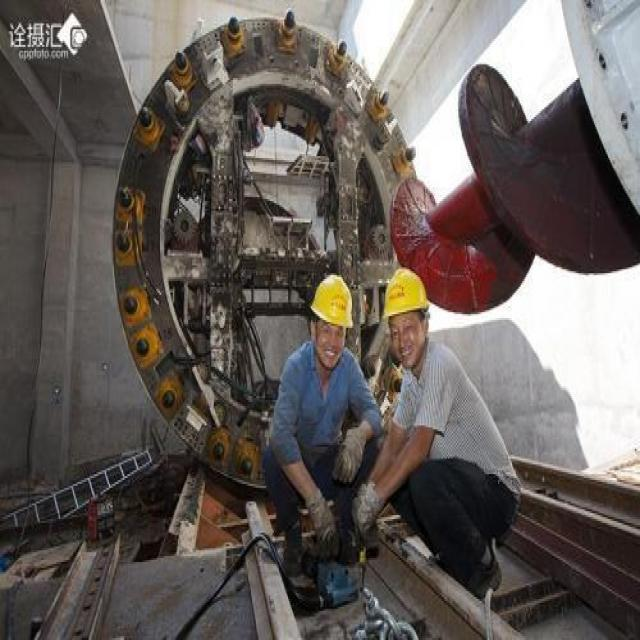hat: (380, 259, 433, 369), (308, 267, 356, 365)
